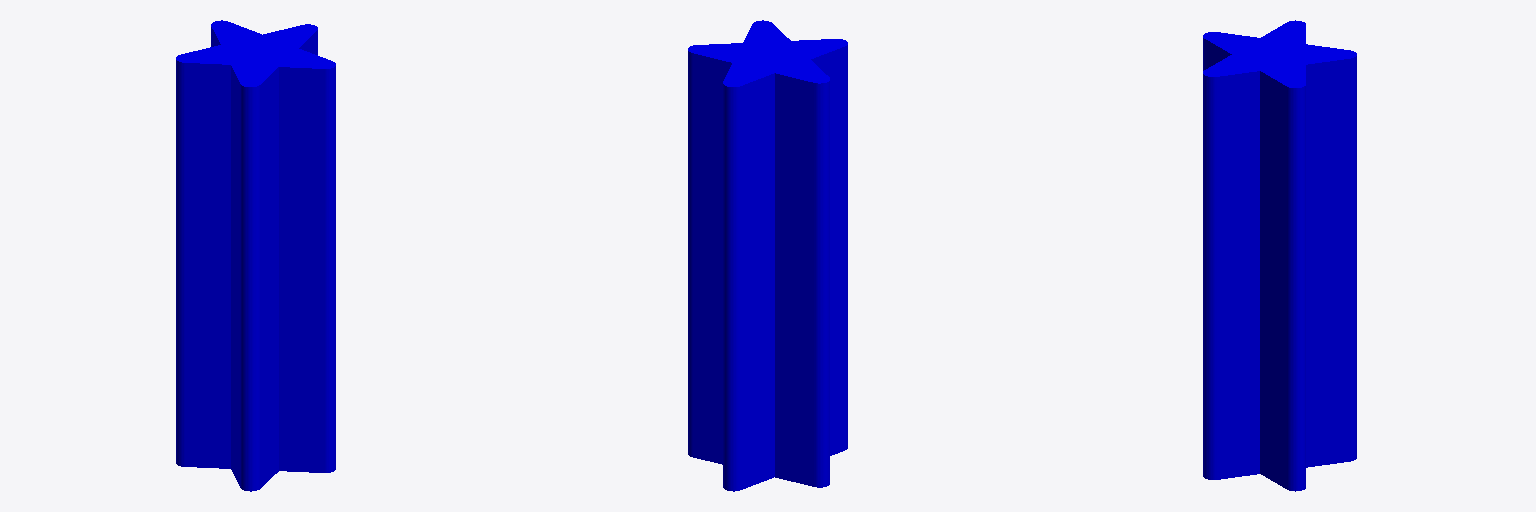
robot.urdf — board1_block18:
<?xml version="1.0"?>
<robot name="board1_block18">
    <link name="board1_block18">
        <visual>
            <origin xyz="0 0 0 " rpy=" 0 0 0"/>
            <geometry>
                <mesh filename="../meshes/SIMO_Board1_Block18.stl" scale="0.001 0.001 0.001"/>
            </geometry>
            <material name="red">
                <color rgba="0.0 0.0 1.0 1.0"/>
            </material>
        </visual>
        <collision>
            <origin xyz="0 0 0" rpy="0 0 0"/>
            <geometry>
                <mesh filename="../meshes/SIMO_Board1_Block18.stl" scale="0.001 0.001 0.001"/>
            </geometry>
        </collision>
    </link>
</robot>

--- What the picture shows (computed from the rendered views, not written in the file) ---
Views: 3 orthographic renders of the robot side by side, from view 1: azimuth 30°, elevation 25°; view 2: azimuth 150°, elevation 25°; view 3: azimuth 270°, elevation 25°.
Model board1_block18 with 1 links and 0 joints (none), rooted at board1_block18, posed every joint at zero.
Visible links, largest first — view 1: board1_block18; view 2: board1_block18; view 3: board1_block18.
Link boxes in pixels (x1,y1,x2,y2): board1_block18: [176, 20, 335, 491]; board1_block18: [688, 20, 847, 491]; board1_block18: [1203, 20, 1356, 491].
Size in the robot's own frame: 0.0543 by 0.052 by 0.15 metres.
1 mesh visuals loaded from 1 distinct referenced files (1 ASCII STL).